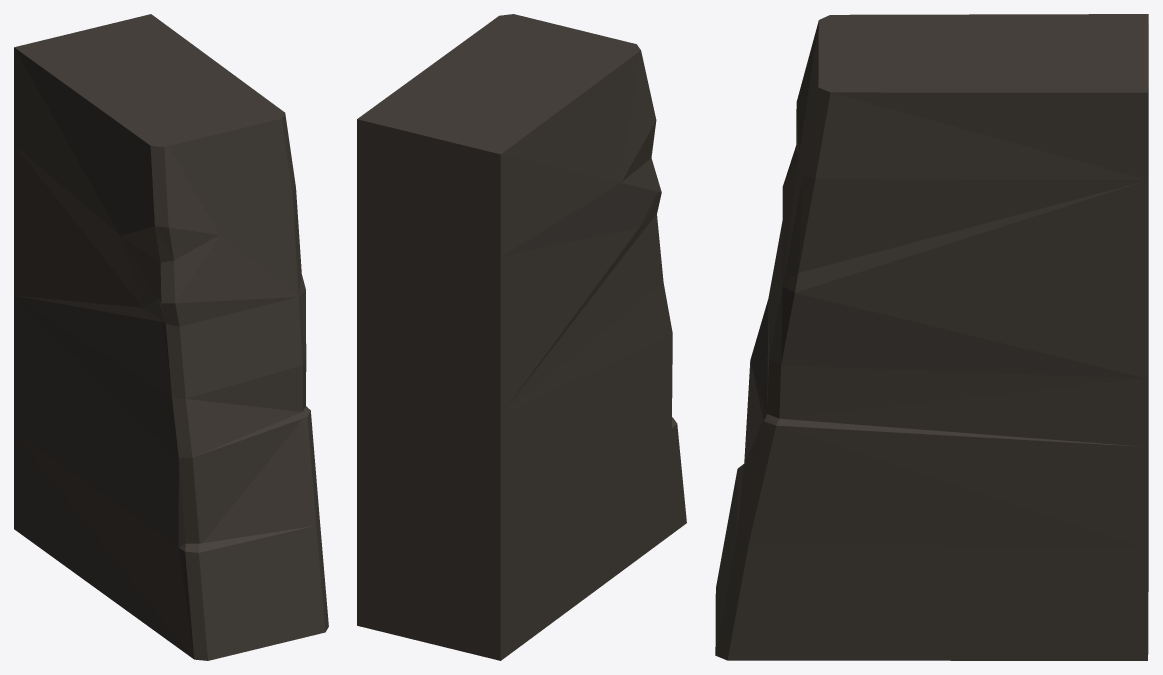
File: MCastle_MasonrySupports_00.FBX
3 renders of one model, left to right at view 1: azimuth 30°, elevation 25°; view 2: azimuth 150°, elevation 25°; view 3: azimuth 270°, elevation 25°, orthographic. The views are drawn at different scales.
Parts seen in each view (by area): view 1: MCastle_MasonrySupports_00_LOD0; view 2: MCastle_MasonrySupports_00_LOD0; view 3: MCastle_MasonrySupports_00_LOD0.
Boxes of the visible parts, x1,y1,x2,y2 form: MCastle_MasonrySupports_00_LOD0: (14,14,328,660); MCastle_MasonrySupports_00_LOD0: (357,14,686,660); MCastle_MasonrySupports_00_LOD0: (715,14,1148,660).
Size of what is drawn, in the model's own units: 1.08 by 3.41 by 2.36.
